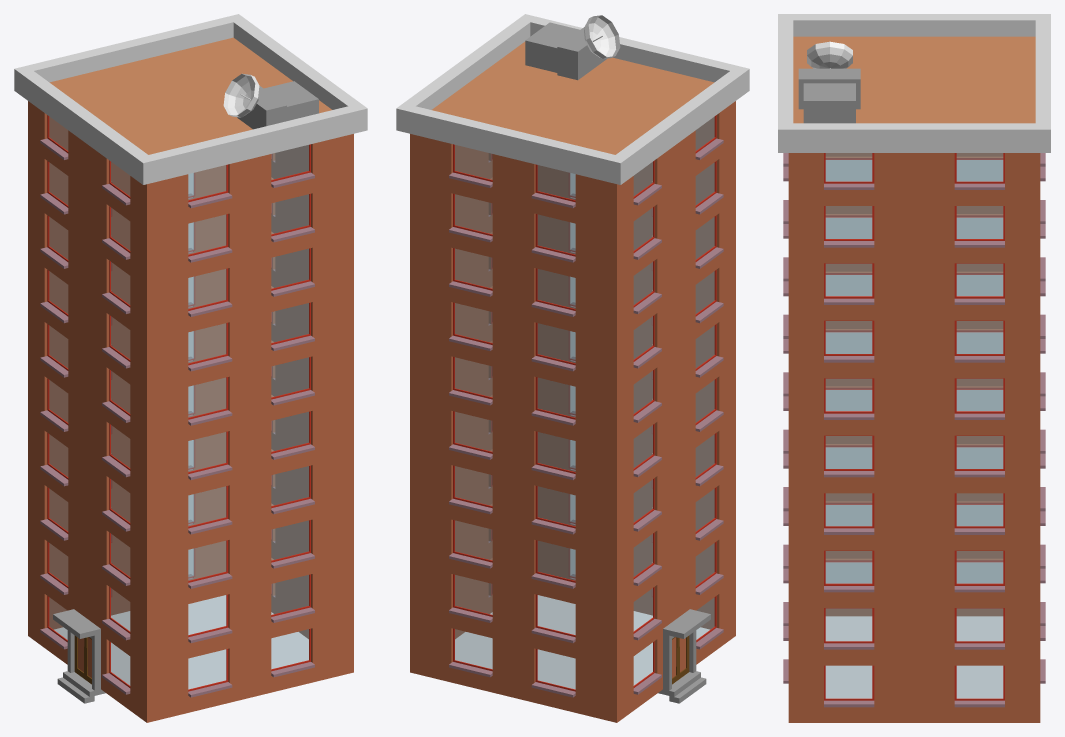
Rendered from office_complex_03.glb.
3 views of the same model, side by side, from view 1: azimuth 30°, elevation 25°; view 2: azimuth 150°, elevation 25°; view 3: azimuth 270°, elevation 25° (orthographic). The views are drawn at different scales.
Parts seen in each view (by area): view 1: Condominio.001_Colore_0; view 2: Condominio.001_Colore_0; view 3: Condominio.001_Colore_0.
Boxes of the visible parts, x1,y1,x2,y2 form: Condominio.001_Colore_0: [14, 14, 367, 722]; Condominio.001_Colore_0: [396, 14, 749, 722]; Condominio.001_Colore_0: [778, 14, 1050, 722].
Bounding box in the file's own units: 5.32 × 13.18 × 5.02.
Materials: 2 (1 with a texture image).
